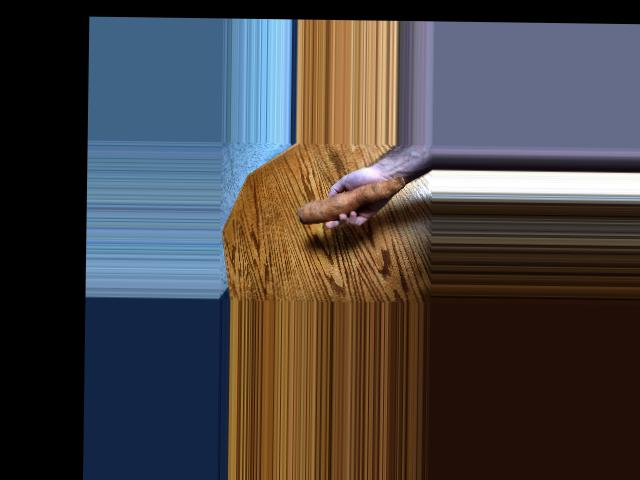sweet_potato: (296, 174, 403, 227)
